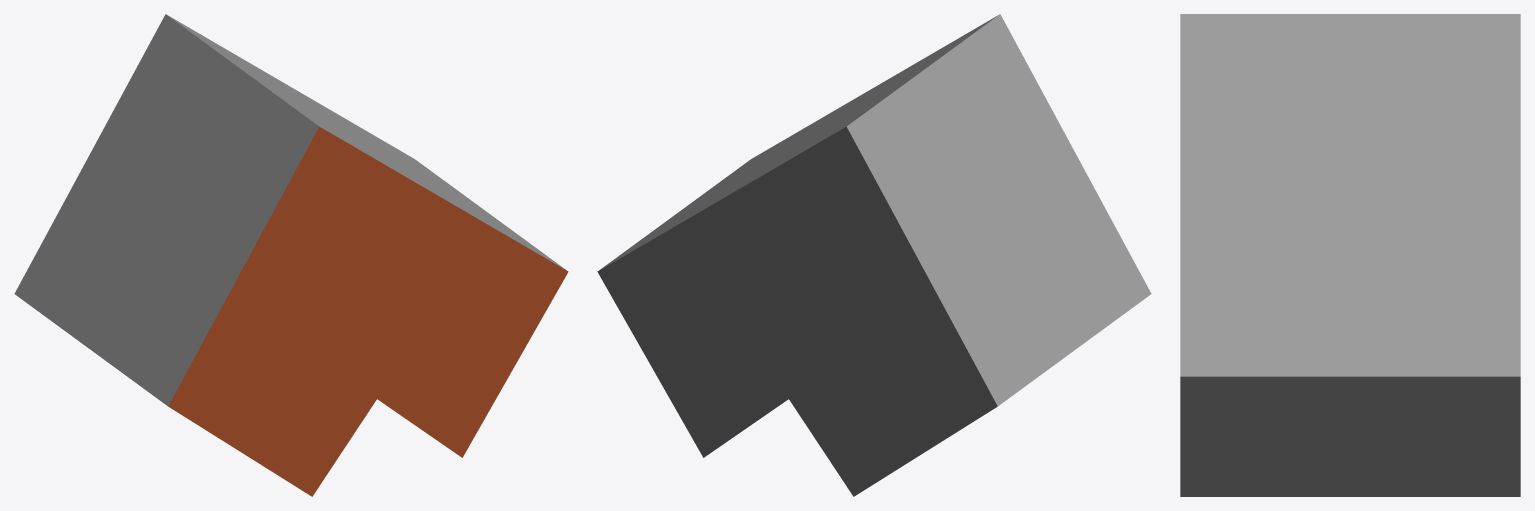
Rendered from construction_3438_assumed_A_Casa_h6m.obj.
3 views of the same model, side by side, from view 1: azimuth 30°, elevation 25°; view 2: azimuth 150°, elevation 25°; view 3: azimuth 270°, elevation 25° (orthographic). The views are drawn at different scales.
Visible parts, largest first — view 1: construction_3438_assumed_A_Casa; view 2: construction_3438_assumed_A_Casa; view 3: construction_3438_assumed_A_Casa.
Boxes of the visible parts, x1=… form: construction_3438_assumed_A_Casa: x1=14, y1=14, x2=568, y2=496; construction_3438_assumed_A_Casa: x1=597, y1=14, x2=1151, y2=496; construction_3438_assumed_A_Casa: x1=1180, y1=14, x2=1520, y2=496.
Bounding box in the file's own units: 9.02 × 7.94 × 6.
